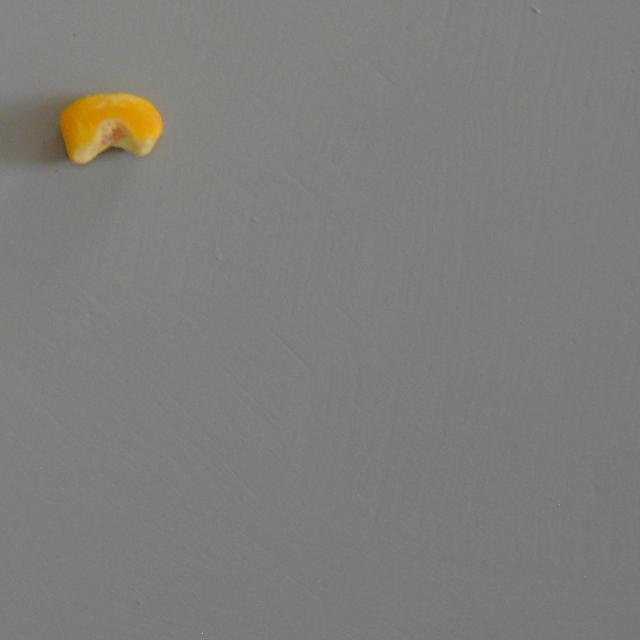dañado: (50, 74, 162, 183)
